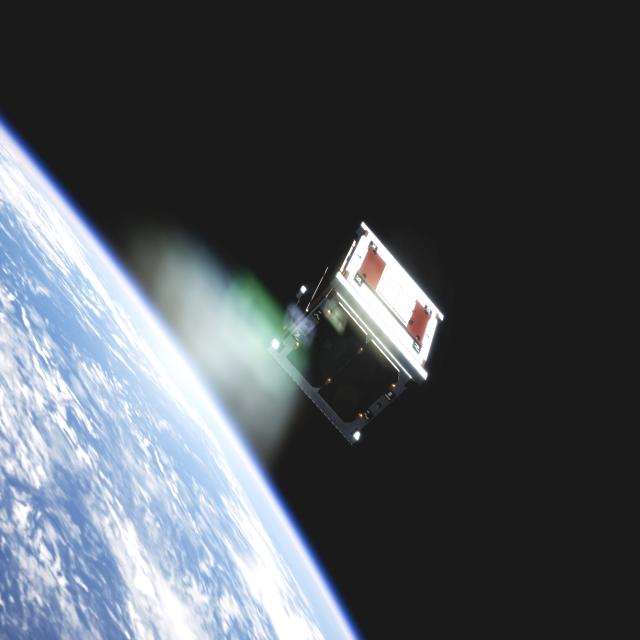medium_debris: (262, 217, 443, 444)
